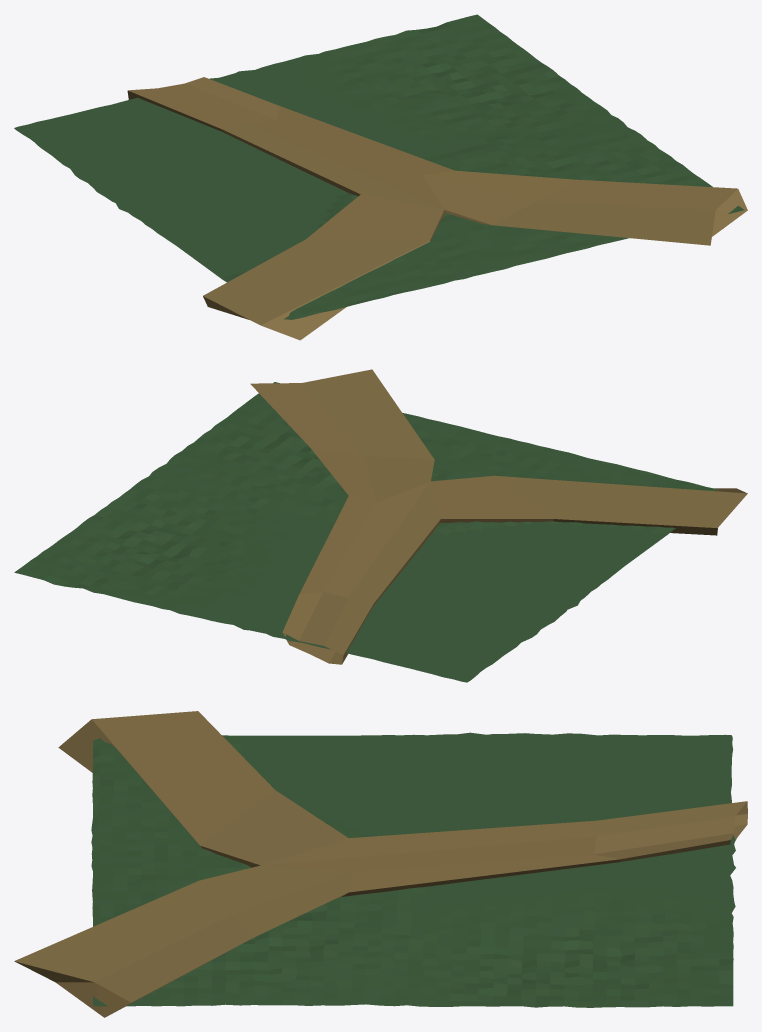
The model's file is athili_copse_section11.glb.
3 views of the same model, one above another, from view 1: azimuth 30°, elevation 25°; view 2: azimuth 150°, elevation 25°; view 3: azimuth 270°, elevation 25° (orthographic). The views are drawn at different scales.
Visible parts, largest first — view 1: Grass, Road; view 2: Grass, Road; view 3: Grass, Road.
Boxes of the visible parts, left/top/right/bottom form: Grass: left=14, top=14, right=744, bottom=319; Road: left=127, top=77, right=747, bottom=340; Grass: left=14, top=382, right=717, bottom=682; Road: left=250, top=369, right=747, bottom=664; Grass: left=91, top=732, right=735, bottom=1007; Road: left=14, top=711, right=747, bottom=1017.
Size of the model in its own units: 64.84 by 2.1 by 67.83.
